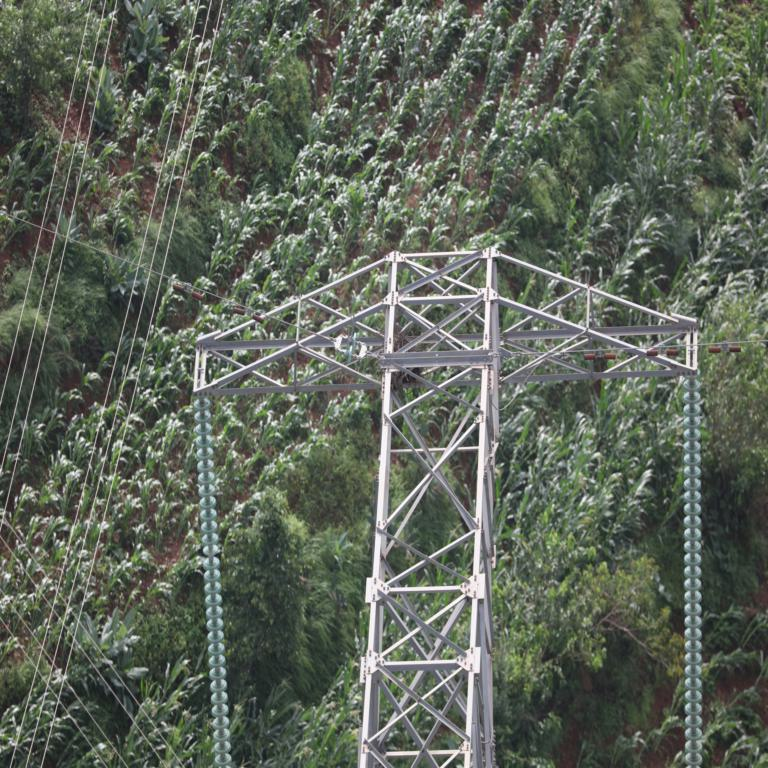nest: (385, 338, 415, 388)
